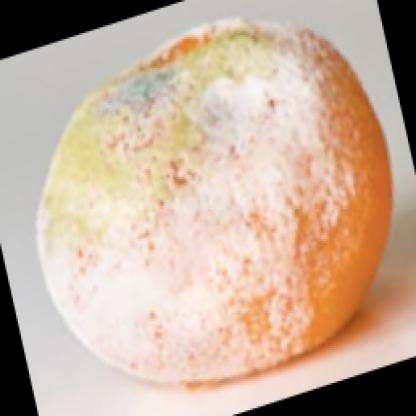rotten: (46, 22, 393, 384)
